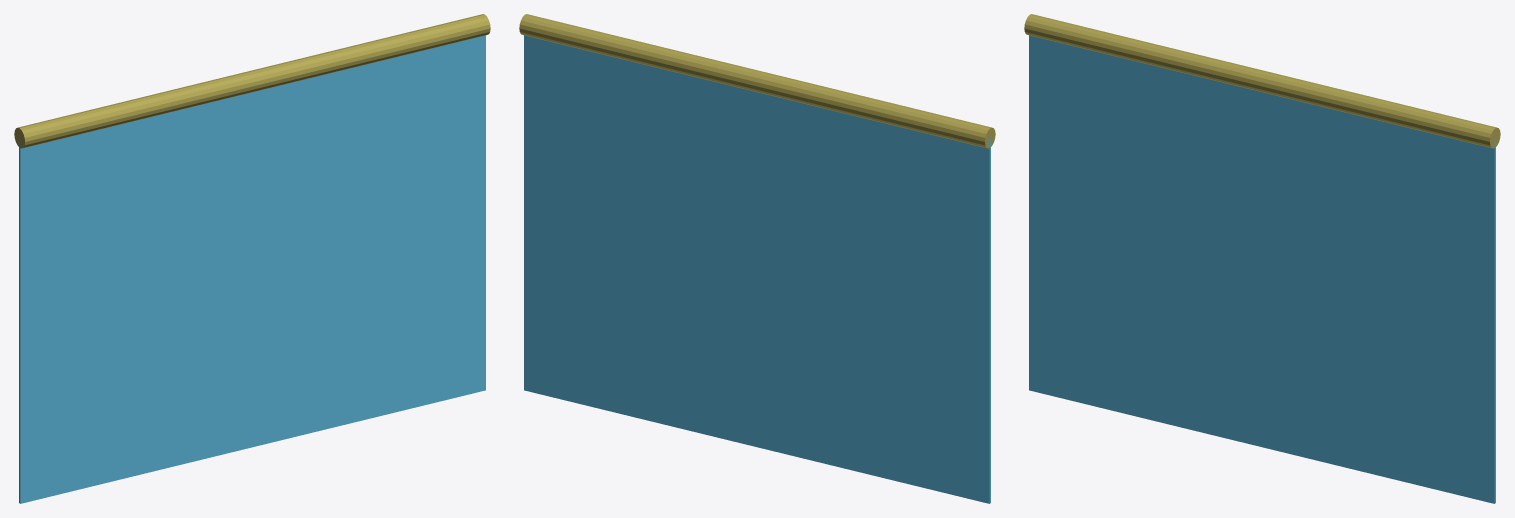
The model's file is flux-glass-railing.dae.
3 views of the same model, side by side, from view 1: azimuth 30°, elevation 25°; view 2: azimuth 150°, elevation 25°; view 3: azimuth 330°, elevation 25° (orthographic).
Parts seen in each view (by area): view 1: Cube; view 2: Cube; view 3: Cube.
Boxes of the visible parts, x1,y1,x2,y2 form: Cube: [14, 14, 490, 503]; Cube: [519, 14, 995, 503]; Cube: [1024, 14, 1500, 503].
Size of what is drawn, in the model's own units: 2 by 0.08 by 1.54.
